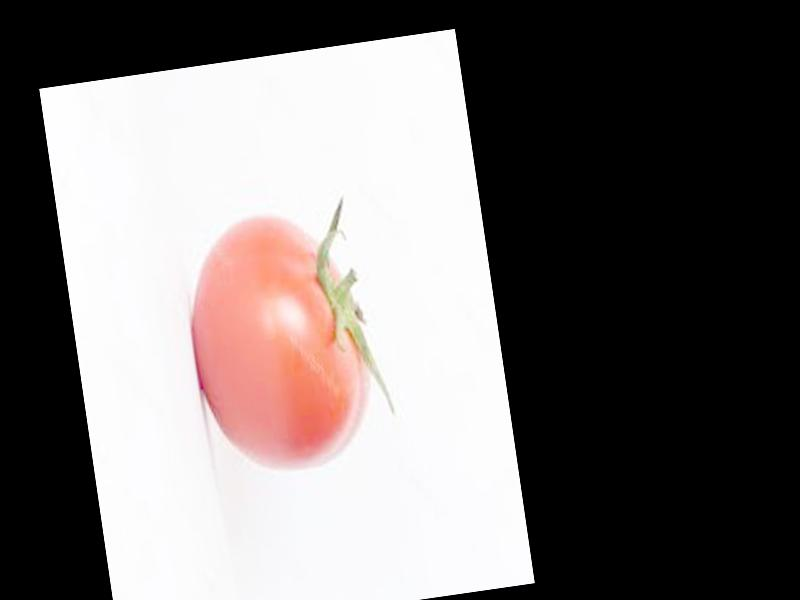Tomato: (175, 205, 379, 485)
